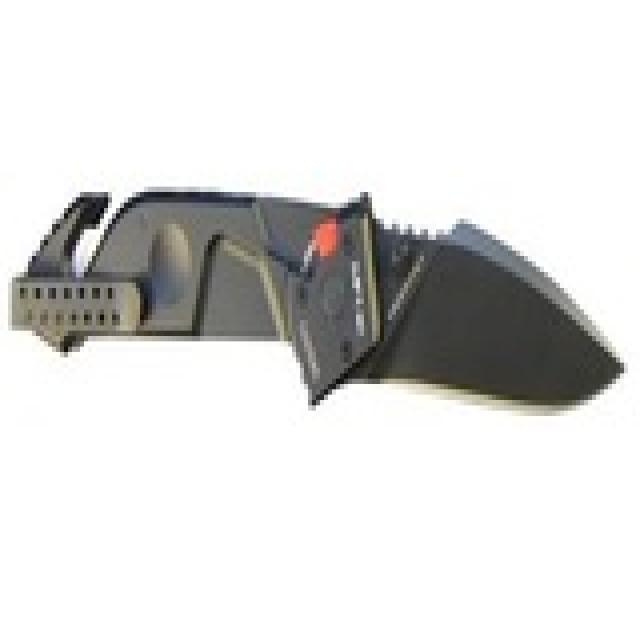Knife: (22, 145, 634, 439)
